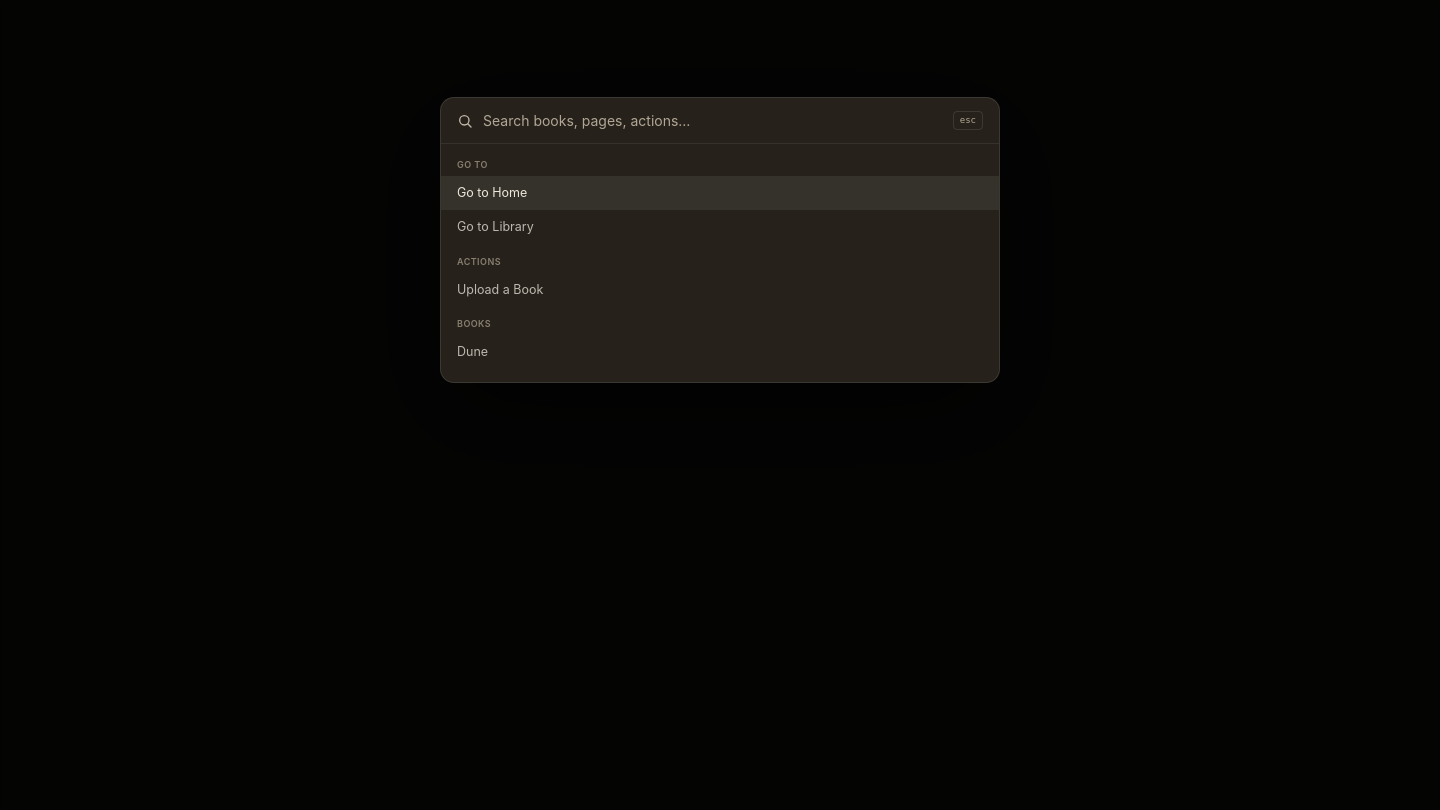
Scenario: CommandPalette › filters commands as you type
Type "dune" into the dropdown at [713, 121], box [483,110,943,131]
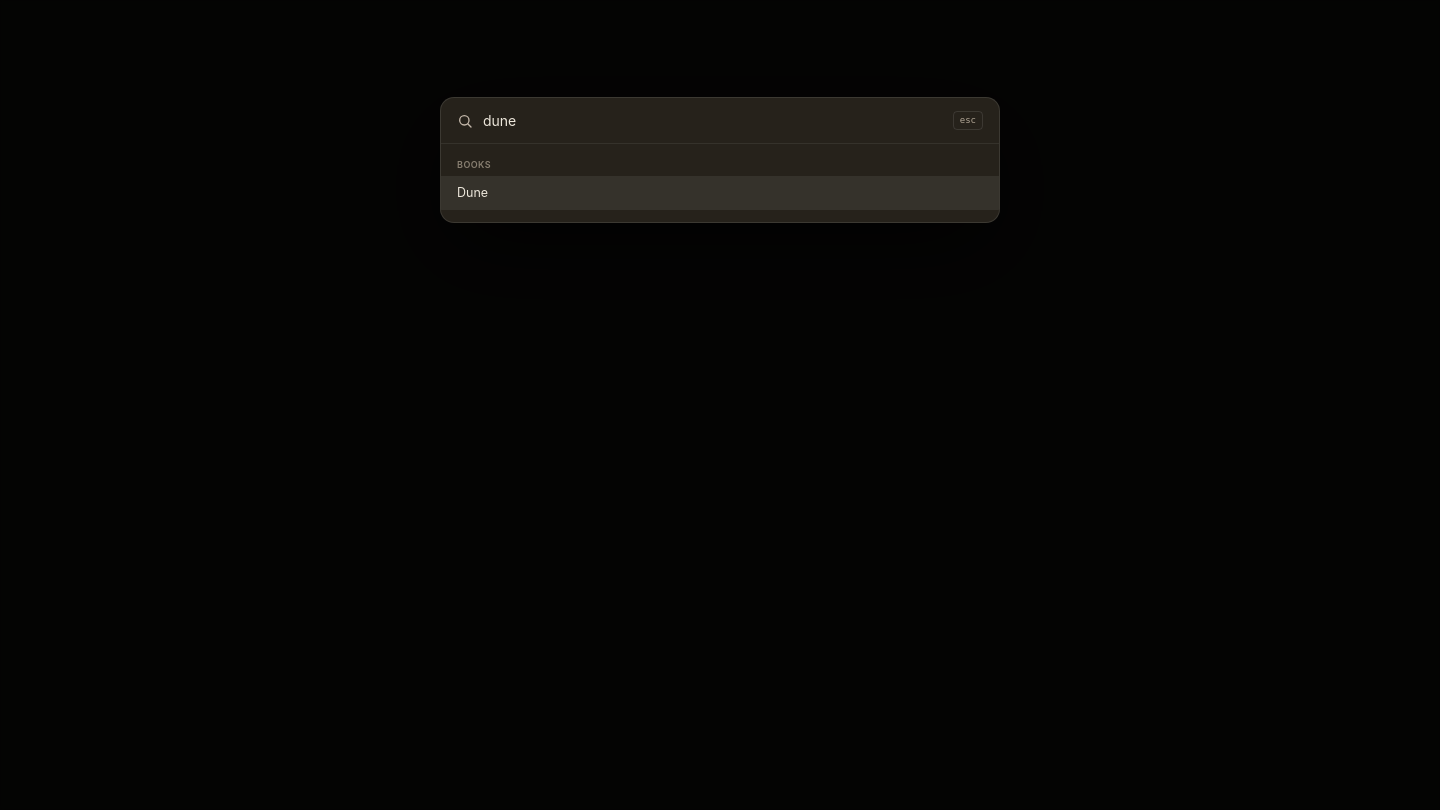
Expected: the option "Dune" is shown, [441,176,999,210]
Expected: the option "Upload" is gone
